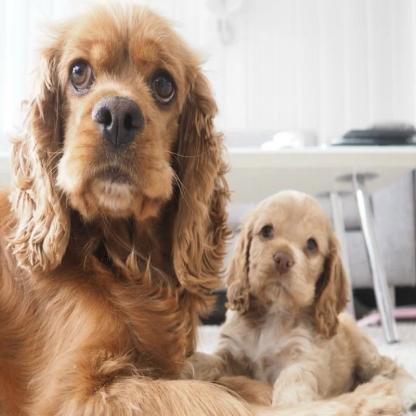American Cocker Spaniel: (8, 7, 251, 324), (235, 178, 394, 392)
